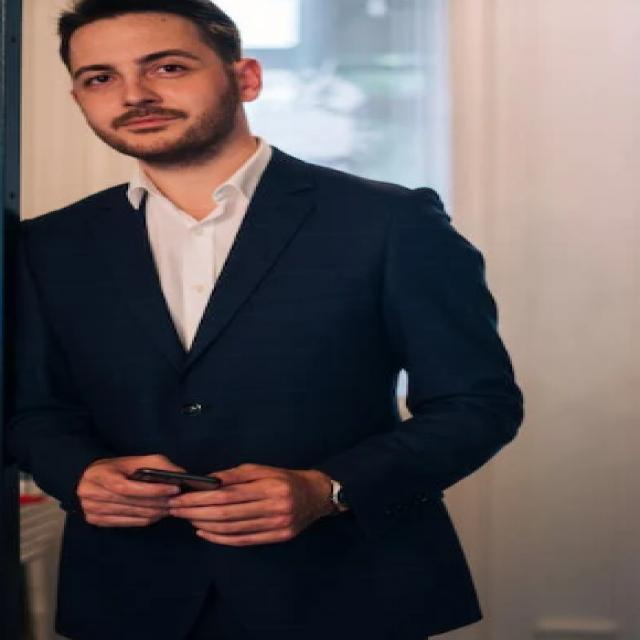Watch: (318, 472, 358, 520)
